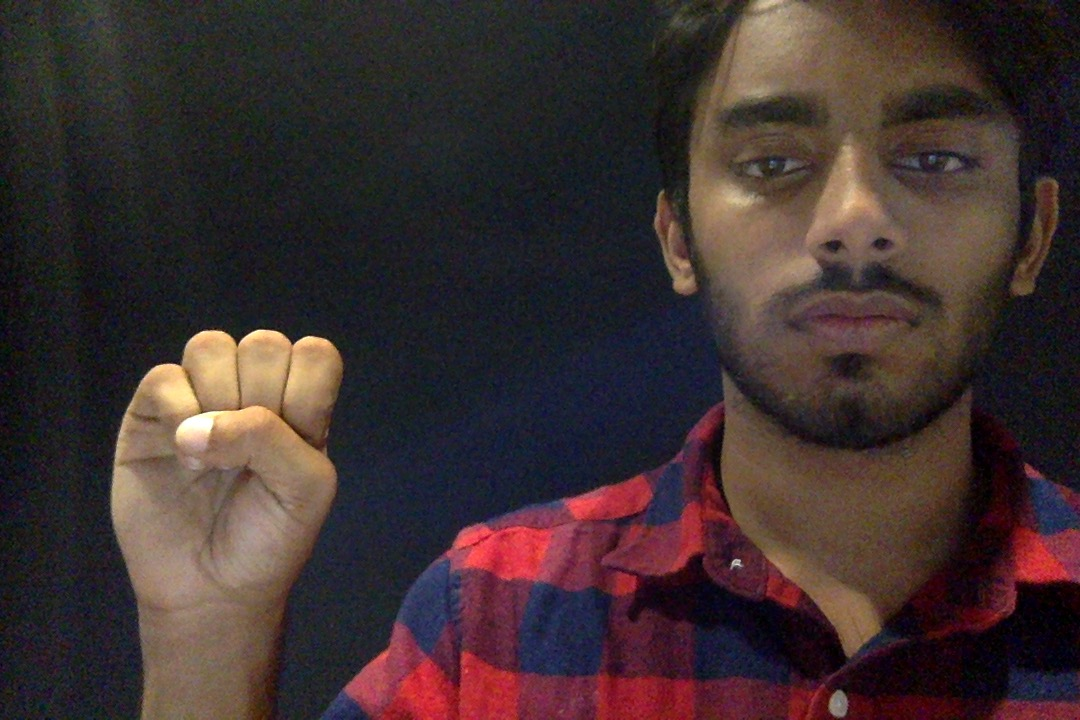s: (89, 315, 364, 671)
